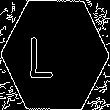L_N: (41, 29, 69, 81)
